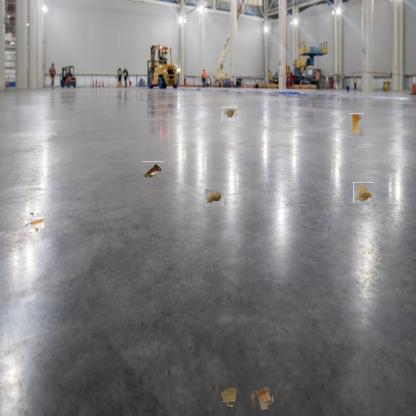dirty: (252, 388, 274, 410), (353, 182, 374, 203), (142, 161, 164, 180), (206, 189, 226, 207), (221, 106, 238, 123), (27, 215, 42, 230)
liquid: (219, 386, 240, 406), (348, 113, 364, 136)
